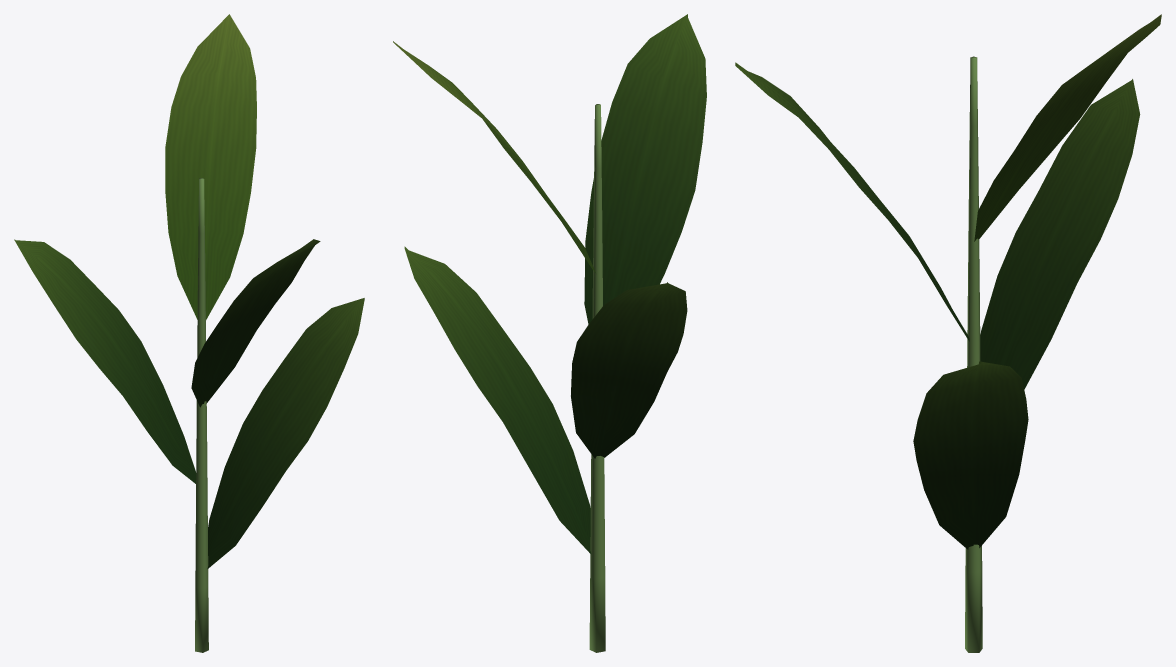
The model's file is tulip-06-lod.glb.
The picture shows the model from 3 angles, left to right: view 1: azimuth 30°, elevation 25°; view 2: azimuth 150°, elevation 25°; view 3: azimuth 270°, elevation 25°; orthographic projection. The views are drawn at different scales.
Parts seen in each view (by area): view 1: tulip_stage_06_leaf_veins.011, tulip_stage_06_young_leaf.011, tulip_stage_06_stem_fibres.011; view 2: tulip_stage_06_leaf_veins.011, tulip_stage_06_stem_fibres.011, tulip_stage_06_young_leaf.011; view 3: tulip_stage_06_leaf_veins.011, tulip_stage_06_young_leaf.011, tulip_stage_06_stem_fibres.011.
Part boxes in pixels (<box>): tulip_stage_06_leaf_veins.011: <box>14,239,364,568</box>; tulip_stage_06_young_leaf.011: <box>165,14,256,319</box>; tulip_stage_06_stem_fibres.011: <box>195,178,208,652</box>; tulip_stage_06_leaf_veins.011: <box>404,14,706,554</box>; tulip_stage_06_stem_fibres.011: <box>589,104,605,652</box>; tulip_stage_06_young_leaf.011: <box>393,41,595,272</box>; tulip_stage_06_leaf_veins.011: <box>735,62,1140,549</box>; tulip_stage_06_young_leaf.011: <box>974,14,1161,241</box>; tulip_stage_06_stem_fibres.011: <box>965,56,982,652</box>.
Bounding box in the file's own units: 0.1783 × 0.3278 × 0.1813.
3 materials, 2 textured.
